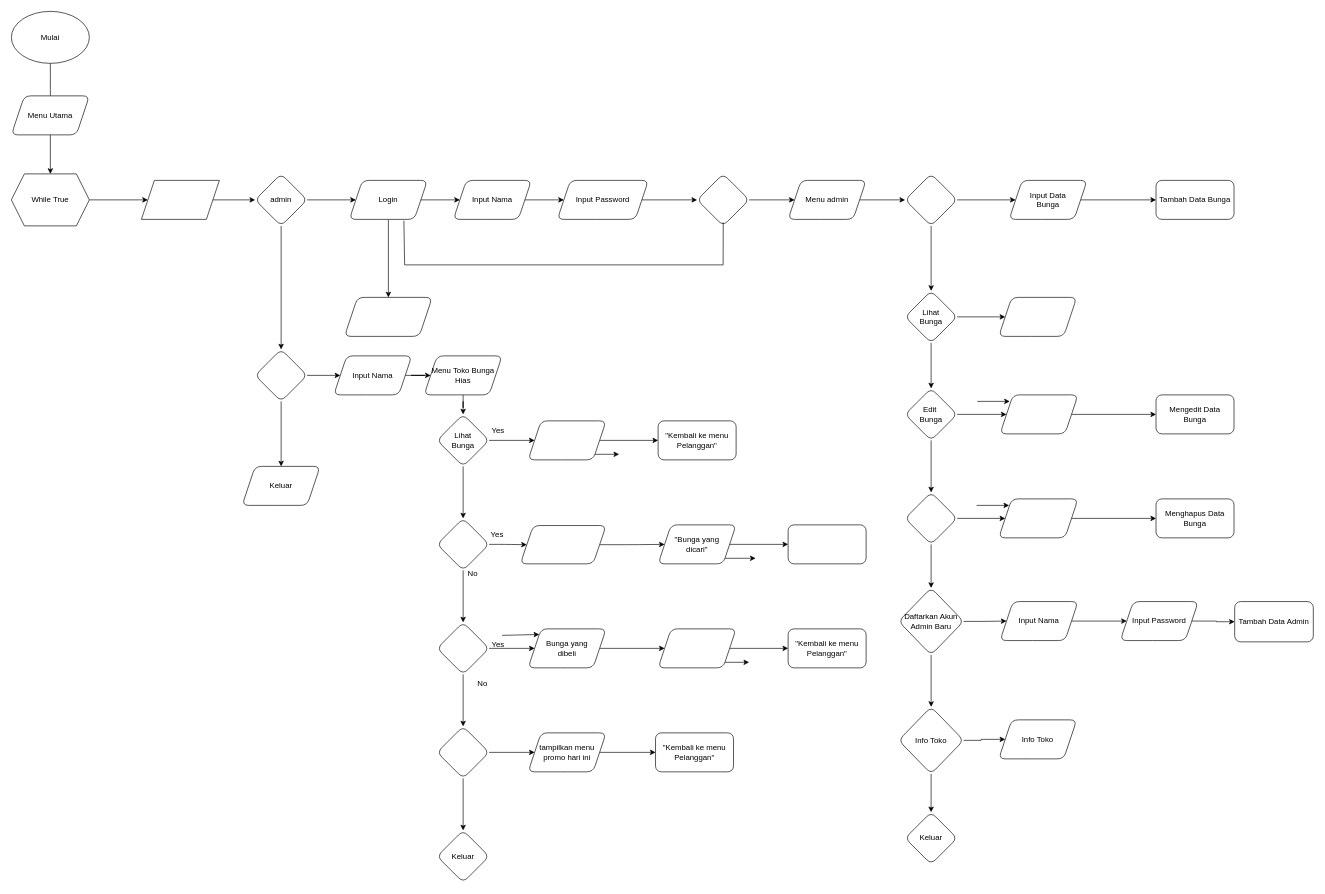
The diagram is 1325 pixels wide and 894 high, and some of its shapes have lost their labels. Each missing label, with the box of its shape:
"Bunga yang sudah dibeli": (657, 628, 736, 668)
"Kembali ke menu Pelangganr": (787, 524, 866, 564)
"List Bunga": (527, 420, 606, 460)
Beli Bunga: (436, 622, 489, 674)
Cari Bunga: (436, 518, 489, 570)
Hapus Bunga: (904, 492, 957, 544)
Input Edit Data Bunga Terpilih: (999, 394, 1078, 434)
Input Nama Bunga yg di cari: (520, 525, 606, 564)
Input Pilih Bunga: (998, 498, 1078, 538)
Input Tabel Data Bunga, nama, harga,stok,warna: (998, 297, 1077, 336)
kembali ke role: (344, 297, 432, 336)
Login berhasil: (696, 173, 749, 226)
Pengguna: (254, 349, 307, 401)
Pilih Role: (141, 180, 219, 219)
Tambah Bunga: (904, 173, 957, 226)
Tampilkan Promo: (436, 726, 489, 778)
